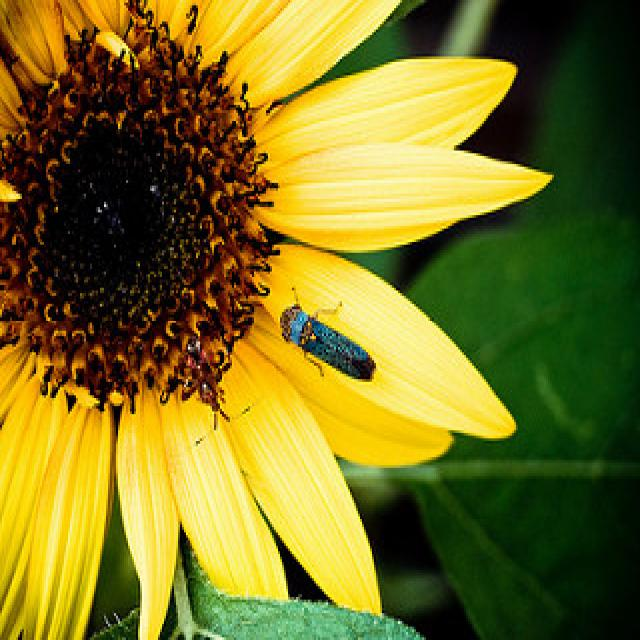sunflower: (0, 0, 553, 640)
